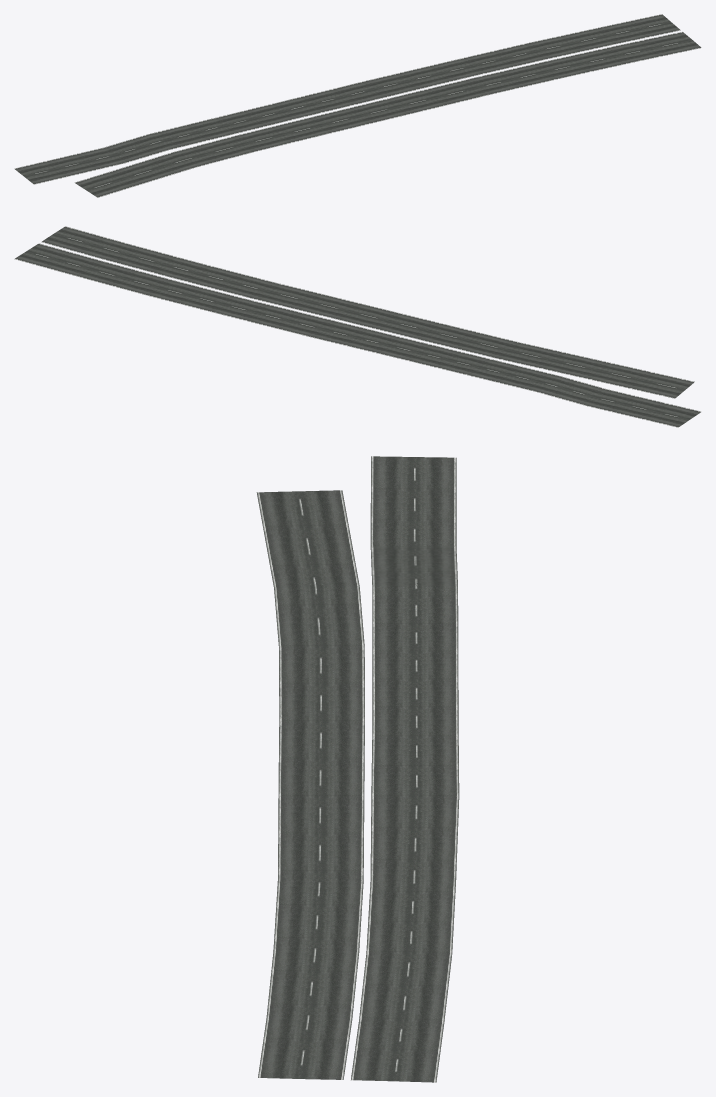
The model's file is cuntwroad37.obj.
The picture shows the model from 3 angles, top to bottom: view 1: azimuth 30°, elevation 25°; view 2: azimuth 150°, elevation 25°; view 3: azimuth 270°, elevation 25°; orthographic projection. The views are drawn at different scales.
Visible parts, largest first — view 1: cuntwroad37; view 2: cuntwroad37; view 3: cuntwroad37.
Boxes of the visible parts, x1,y1,x2,y2 form: cuntwroad37: [14, 14, 701, 197]; cuntwroad37: [14, 226, 701, 427]; cuntwroad37: [256, 456, 459, 1082].
Size of the model in its own units: 208 by 0.6755 by 28.32.
2 materials, 2 textured.
